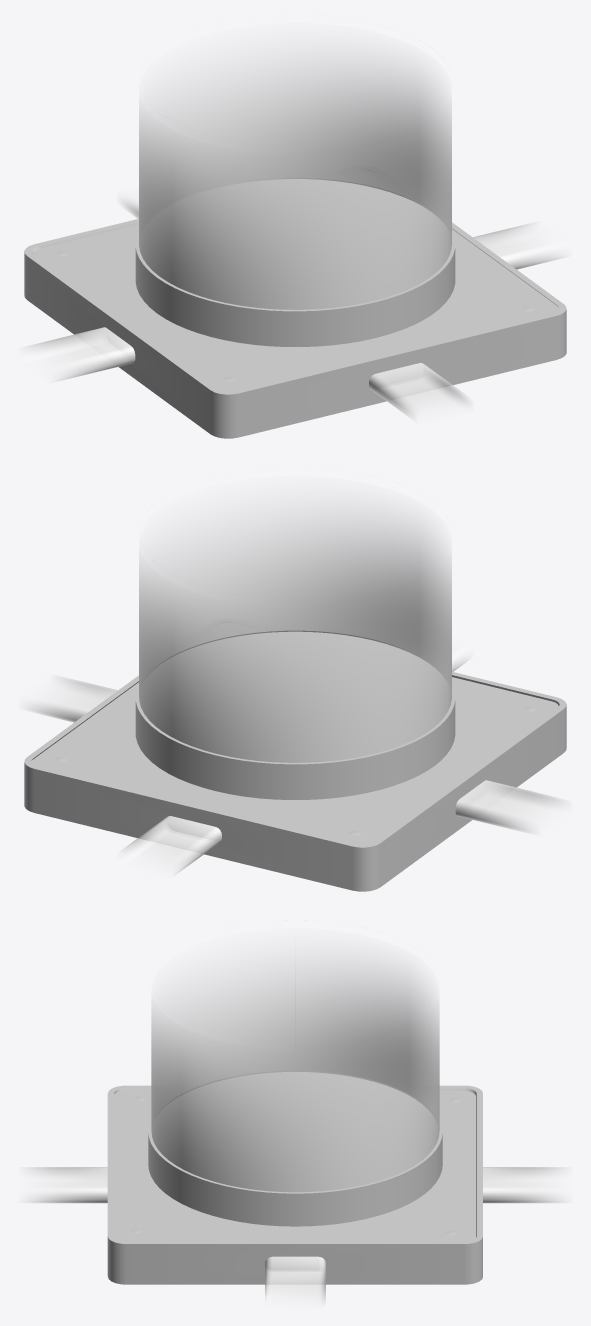
3 views of the same model, one above another, from view 1: azimuth 30°, elevation 25°; view 2: azimuth 150°, elevation 25°; view 3: azimuth 270°, elevation 25° (orthographic). The views are drawn at different scales.
Parts seen in each view (by area): view 1: black, opacity, opacity-s, deepColor, lowColor; view 2: black, opacity, opacity-s, deepColor, lowColor; view 3: opacity, black, opacity-s, deepColor, lowColor.
Boxes of the visible parts, x1,y1,x2,y2 form: black: (24, 177, 566, 438); opacity: (139, 47, 451, 309); opacity-s: (26, 193, 564, 421); deepColor: (24, 218, 566, 394); lowColor: (135, 281, 455, 346); black: (24, 630, 566, 891); opacity: (139, 500, 451, 762); opacity-s: (26, 646, 564, 874); deepColor: (24, 671, 566, 847); lowColor: (135, 734, 455, 799); opacity: (151, 945, 439, 1192); black: (107, 1070, 482, 1284); opacity-s: (25, 1167, 565, 1303); deepColor: (107, 1085, 482, 1269); lowColor: (148, 1165, 442, 1226).
Bounding box in the file's own units: 3 × 1.32 × 3.
Materials: 1 (1 with a texture image).
